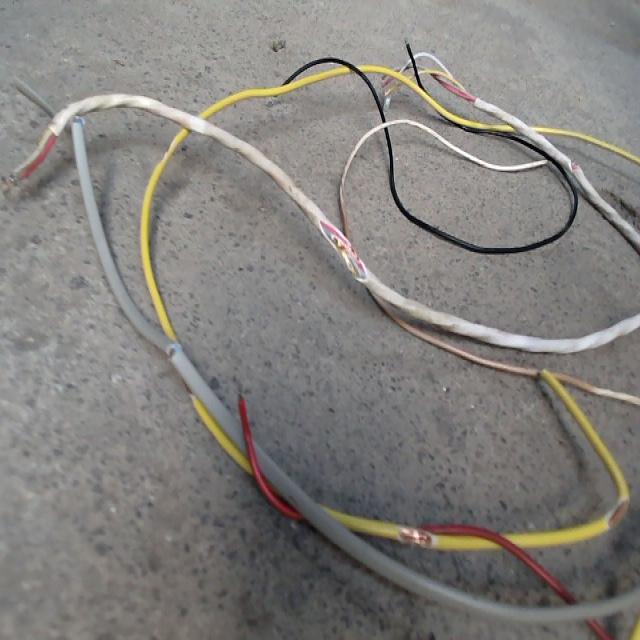-: (317, 217, 367, 283), (395, 526, 437, 550), (605, 496, 628, 531)
